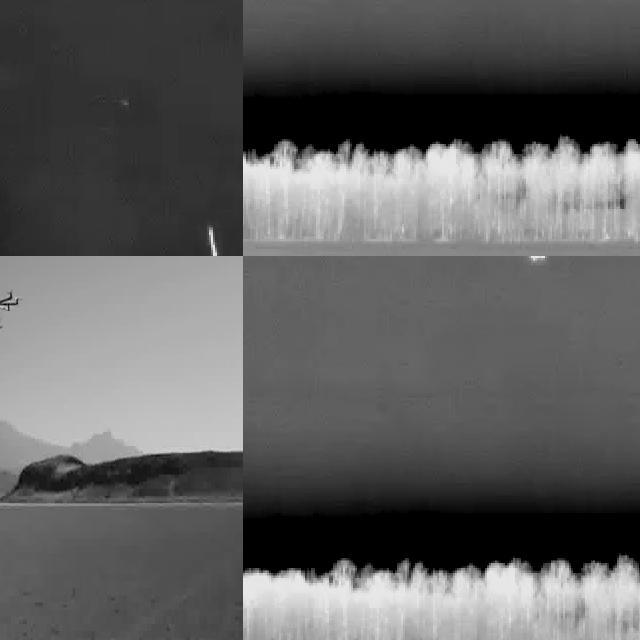0: (118, 94, 140, 121)
1: (521, 256, 557, 273)
drone: (0, 283, 21, 337)
